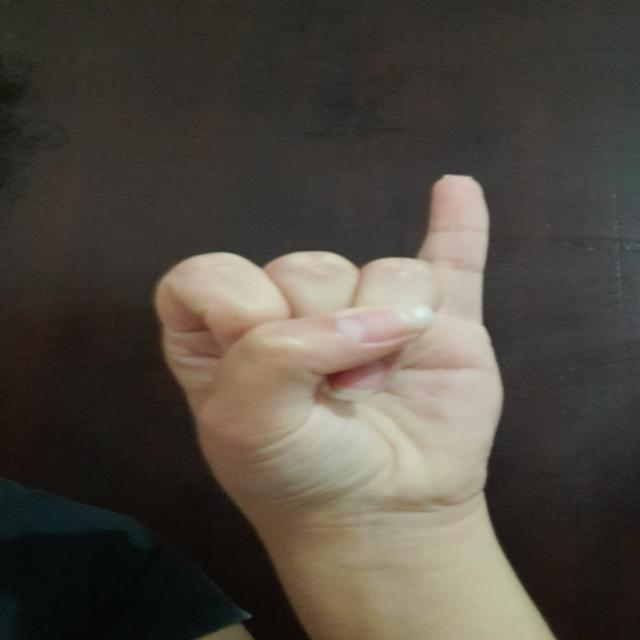I: (121, 164, 523, 516)
